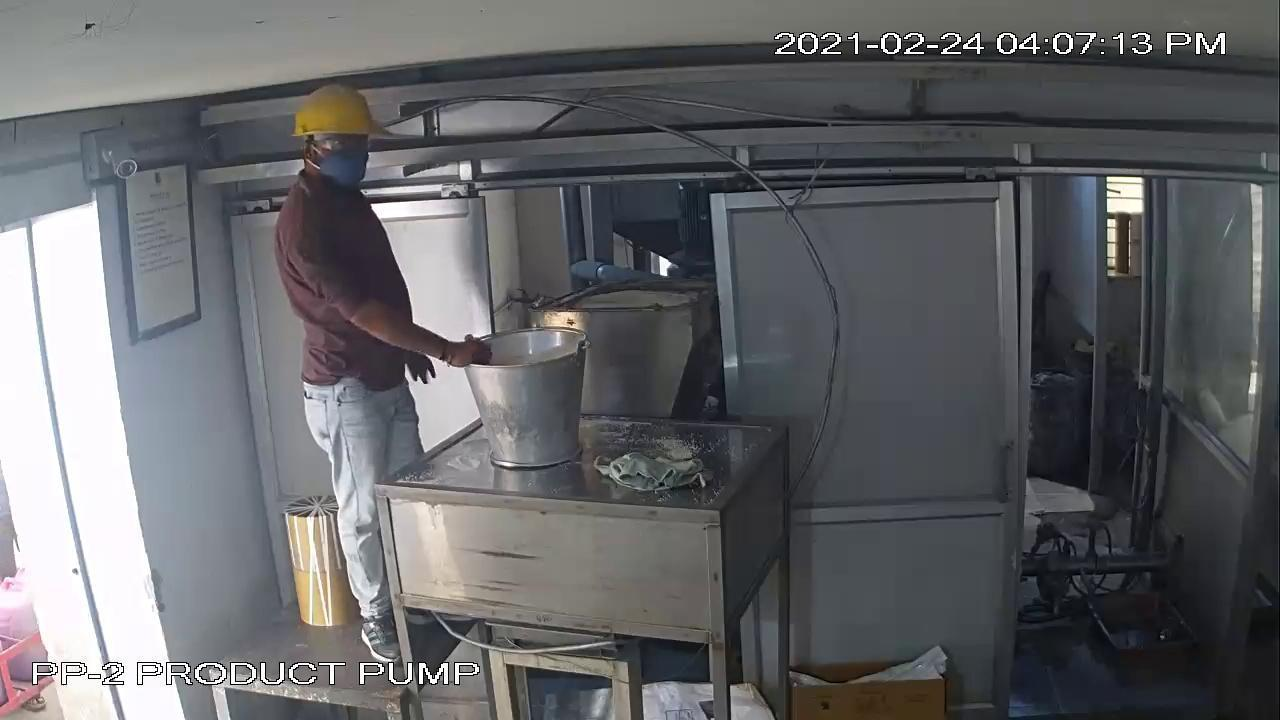helmet: (284, 73, 385, 154)
